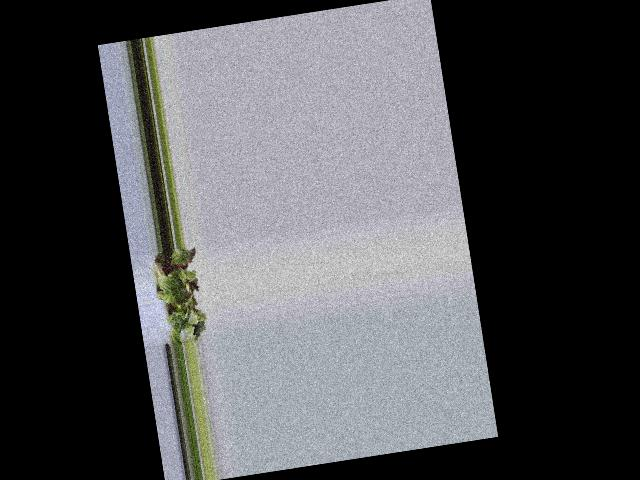lettuce: (157, 249, 204, 340)
